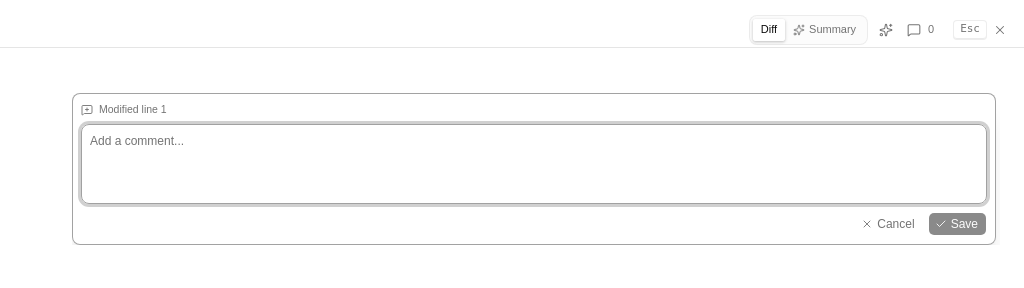
WorkspaceEditorSurface › completes Helmor mentions in diff comments
The image size is (1024, 288).
Type "@" into the text box named "Diff comment" at (534, 164), box x1=81 y1=124 x2=987 y2=204
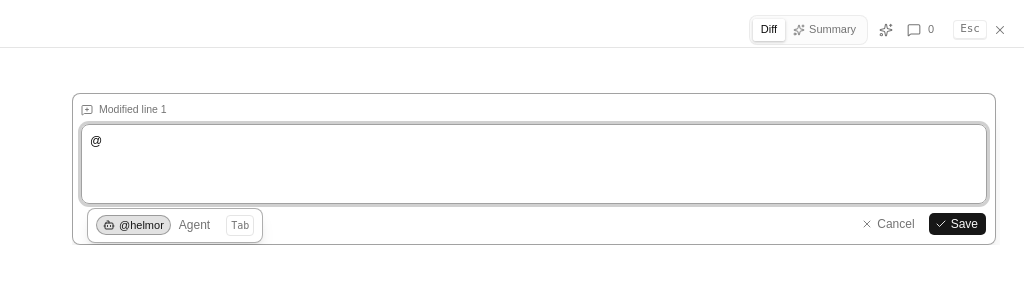
Result: the button "@helmor Agent Tab" is shown at x1=87 y1=208 x2=263 y2=243
Press Tab
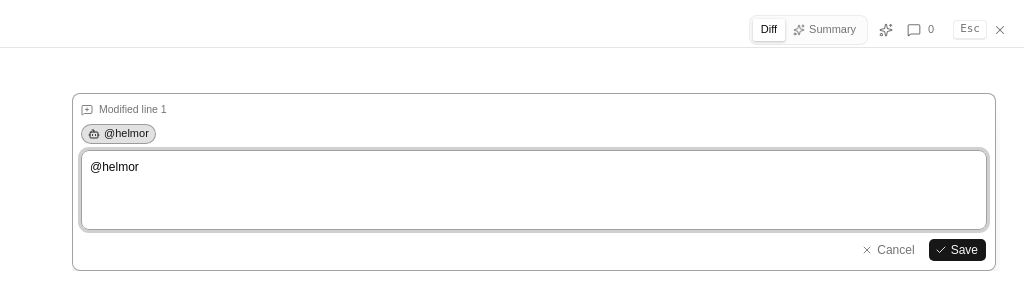
Result: the text box named "Diff comment" holds "@helmor " at x1=81 y1=150 x2=987 y2=230
